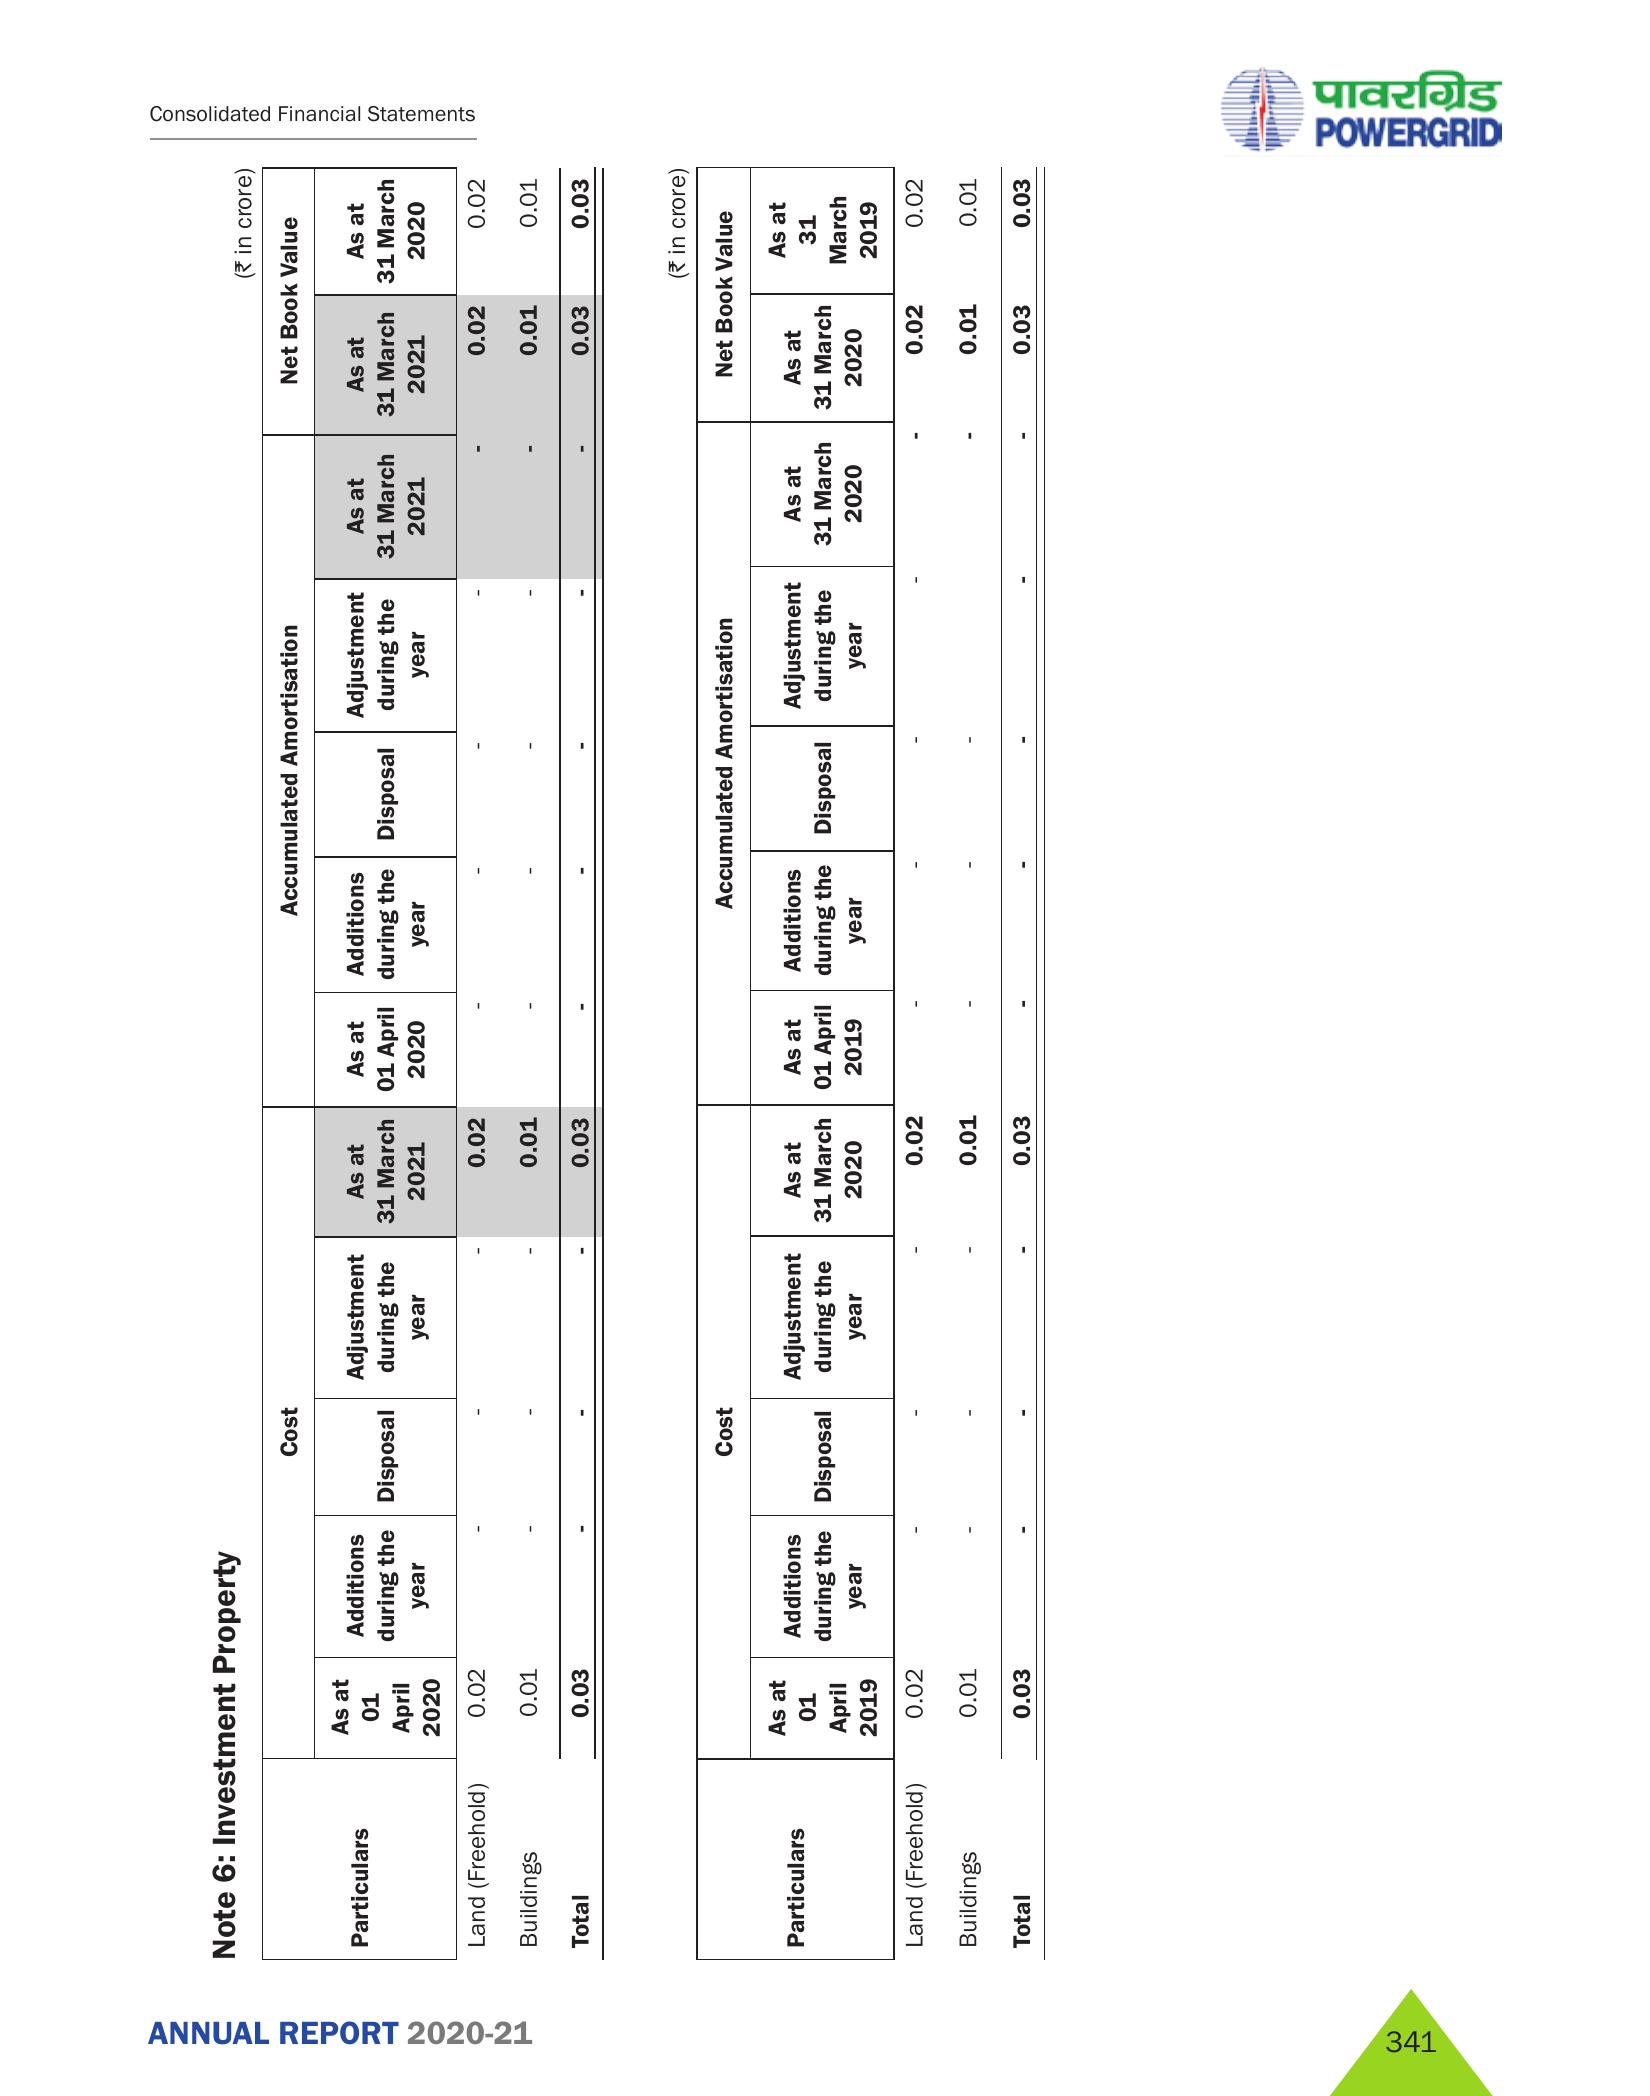Footer: (0, 1968, 1650, 2096)
Header: (0, 0, 1650, 163)
Table: (204, 168, 1078, 1962)
